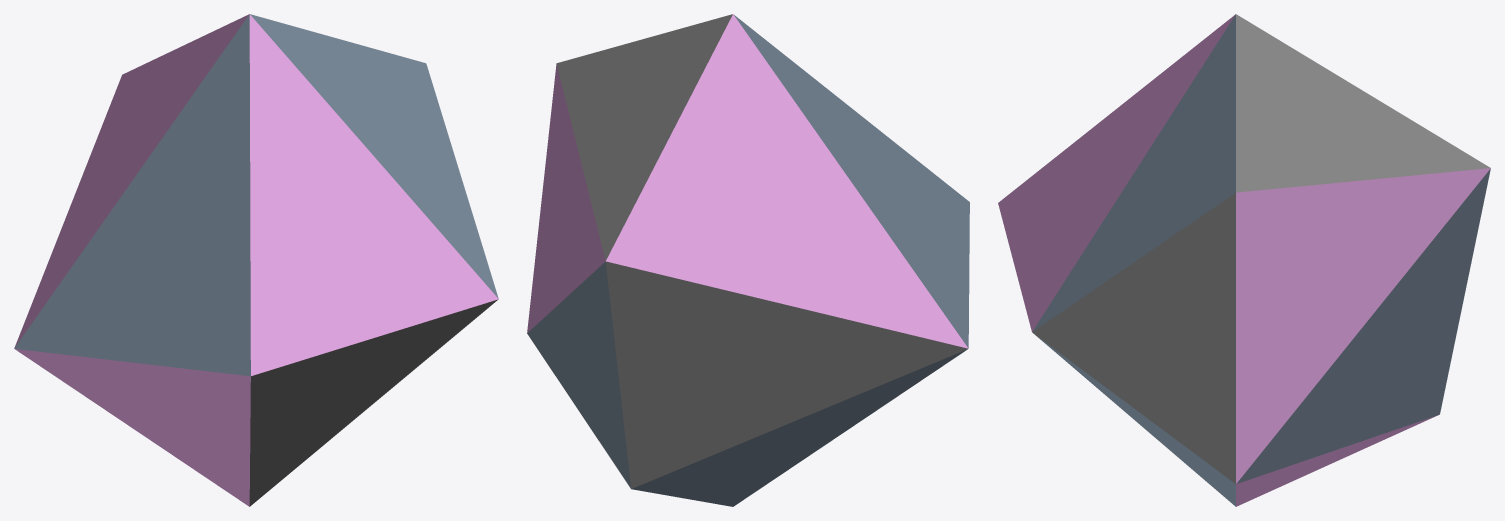
File: rockhermit.obj
The picture shows the model from 3 angles, left to right: view 1: azimuth 30°, elevation 25°; view 2: azimuth 150°, elevation 25°; view 3: azimuth 270°, elevation 25°; orthographic projection.
Bounding box in the file's own units: 150 × 160 × 145.
